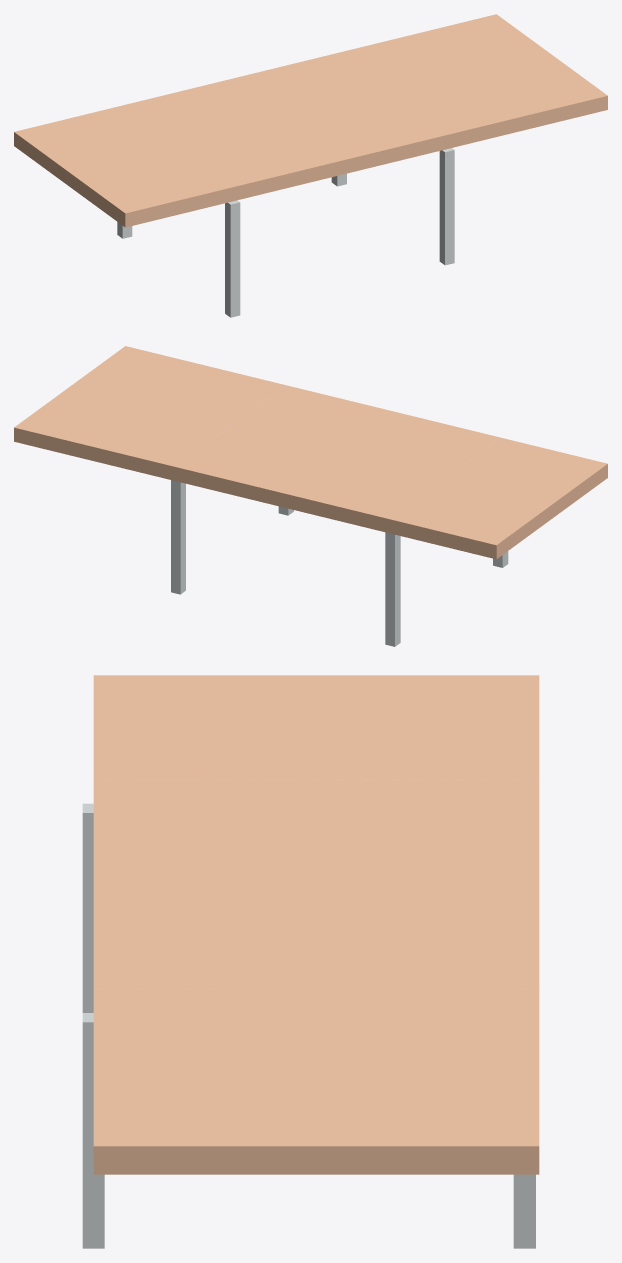
File: desk-row-d11.glb
The picture shows the model from 3 angles, top to bottom: view 1: azimuth 30°, elevation 25°; view 2: azimuth 150°, elevation 25°; view 3: azimuth 270°, elevation 25°; orthographic projection. The views are drawn at different scales.
Visible parts, largest first — view 1: desktop, shared-corner-leg (×2); view 2: desktop, shared-corner-leg (×2); view 3: desktop, shared-corner-leg (×3).
Part boxes in pixels (x1=…): desktop: x1=14, y1=14, x2=607, y2=227; shared-corner-leg (×2): x1=225, y1=148, x2=454, y2=317; desktop: x1=14, y1=346, x2=607, y2=559; shared-corner-leg (×2): x1=171, y1=480, x2=400, y2=646; desktop: x1=93, y1=675, x2=539, y2=1174; shared-corner-leg (×3): x1=82, y1=803, x2=535, y2=1248.
Size of the model in its own units: 5 by 1.26 by 2.05.
Materials: 1 (1 with a texture image).
